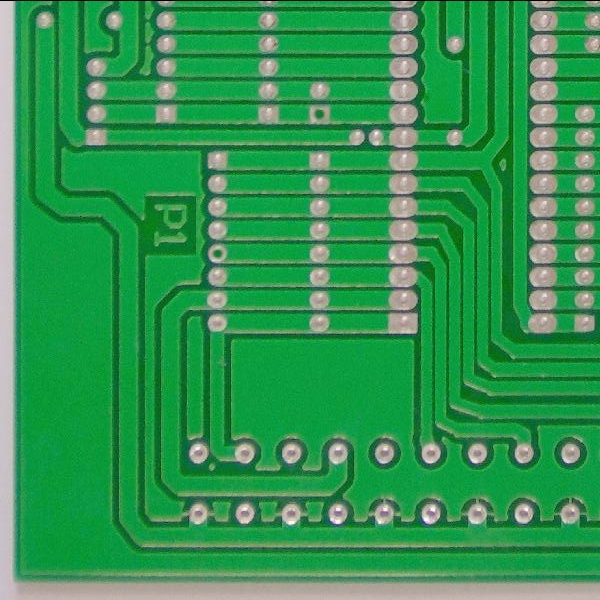missing_hole: (204, 242, 229, 263), (310, 102, 331, 122)
